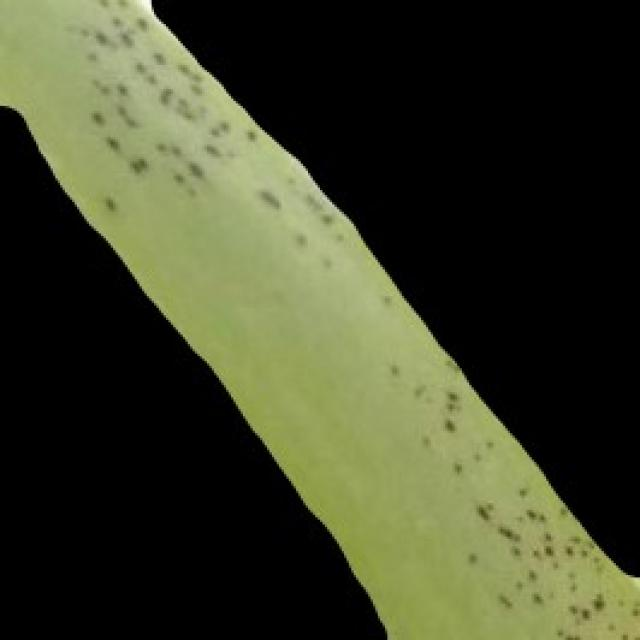mite: (255, 185, 282, 209), (496, 520, 520, 544), (440, 387, 462, 411), (522, 505, 544, 525), (154, 84, 173, 106), (128, 154, 149, 173), (589, 589, 606, 611), (87, 106, 106, 125), (101, 192, 118, 212), (440, 414, 457, 433), (496, 589, 512, 609), (527, 589, 544, 606), (450, 457, 464, 476), (464, 549, 479, 565), (628, 594, 638, 618)
